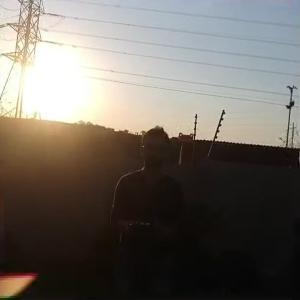follow: (103, 120, 189, 298)
